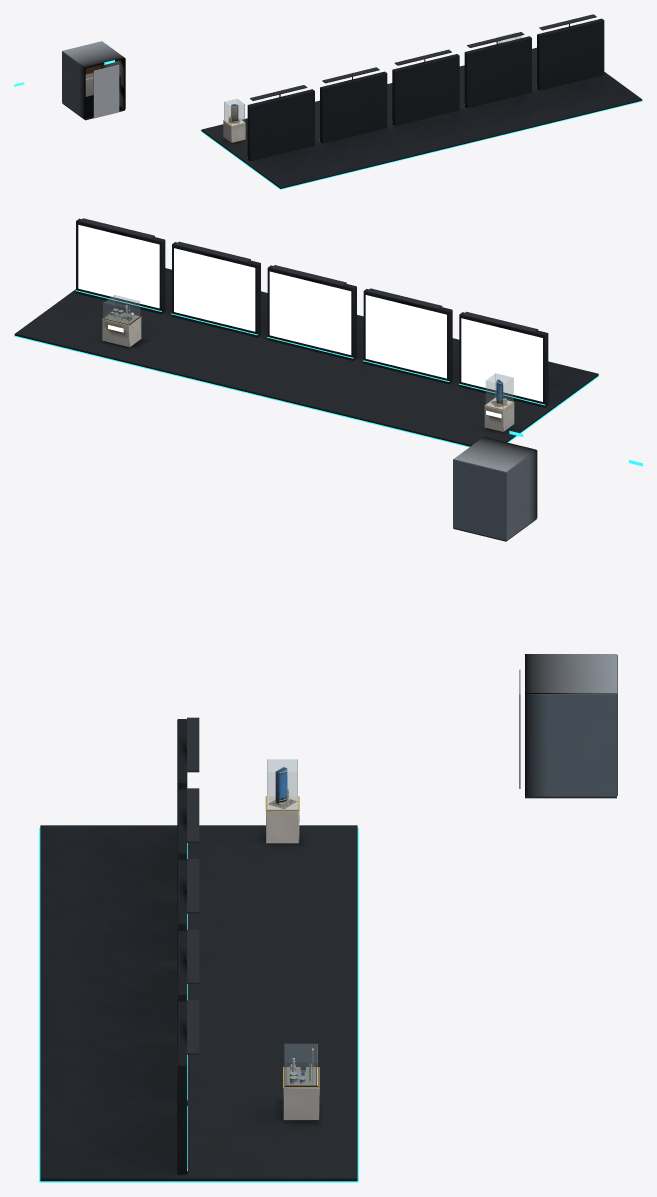
Rendered from ex_about.glb.
The picture shows the model from 3 angles, top to bottom: view 1: azimuth 30°, elevation 25°; view 2: azimuth 150°, elevation 25°; view 3: azimuth 270°, elevation 25°; orthographic projection. The views are drawn at different scales.
Visible parts, largest first — view 1: static.about_wall, static.plinth, lift_cabin.steel, static.paint_dark, lift_cabin.white, liftDoorL.steel, liftDoorR.steel, accent_strip.accent, case_glass.glass_clear, static.white, lift_cabin.stone_dark; view 2: static.plinth, static.about_wall, lift_cabin.steel, sign_about_registrations.sign_about_registrations, sign_about_partners.sign_about_partners, sign_about_credentials.sign_about_credentials, sign_about_sectors.sign_about_sectors, sign_about_story.sign_about_story, static.paint_dark, lift_cabin.white, case_glass.glass_clear, static.white (+2 smaller); view 3: static.plinth, lift_cabin.steel, static.about_wall, static.paint_dark, lift_cabin.white, case_glass.glass_clear, static.white, accent_strip.accent.
Boxes of the visible parts, x1,y1,x2,y2 form: static.about_wall: (247, 18, 604, 161); static.plinth: (201, 47, 642, 188); lift_cabin.steel: (62, 51, 125, 119); static.paint_dark: (250, 14, 596, 100); lift_cabin.white: (62, 41, 124, 68); liftDoorL.steel: (93, 68, 106, 118); liftDoorR.steel: (106, 64, 119, 115); accent_strip.accent: (200, 100, 642, 189); case_glass.glass_clear: (224, 33, 522, 124); static.white: (223, 118, 245, 142); lift_cabin.stone_dark: (62, 95, 124, 120); static.plinth: (14, 268, 598, 446); static.about_wall: (76, 218, 548, 407); lift_cabin.steel: (453, 450, 537, 540); sign_about_registrations.sign_about_registrations: (269, 271, 351, 354); sign_about_partners.sign_about_partners: (174, 248, 255, 331); sign_about_credentials.sign_about_credentials: (365, 295, 446, 378); sign_about_sectors.sign_about_sectors: (78, 225, 159, 308); sign_about_story.sign_about_story: (461, 318, 542, 401); static.paint_dark: (79, 218, 538, 332); lift_cabin.white: (453, 437, 536, 472); case_glass.glass_clear: (104, 295, 512, 408); static.white: (102, 310, 514, 431); static.plinth: (40, 825, 357, 1181); lift_cabin.steel: (525, 655, 617, 796); static.about_wall: (177, 719, 187, 1174); static.paint_dark: (186, 717, 318, 1086); lift_cabin.white: (525, 654, 616, 693); case_glass.glass_clear: (267, 759, 317, 1085); static.white: (266, 796, 319, 1120); accent_strip.accent: (39, 828, 358, 1182).
Bounding box in the file's own units: 28.32 × 3.25 × 13.85.
